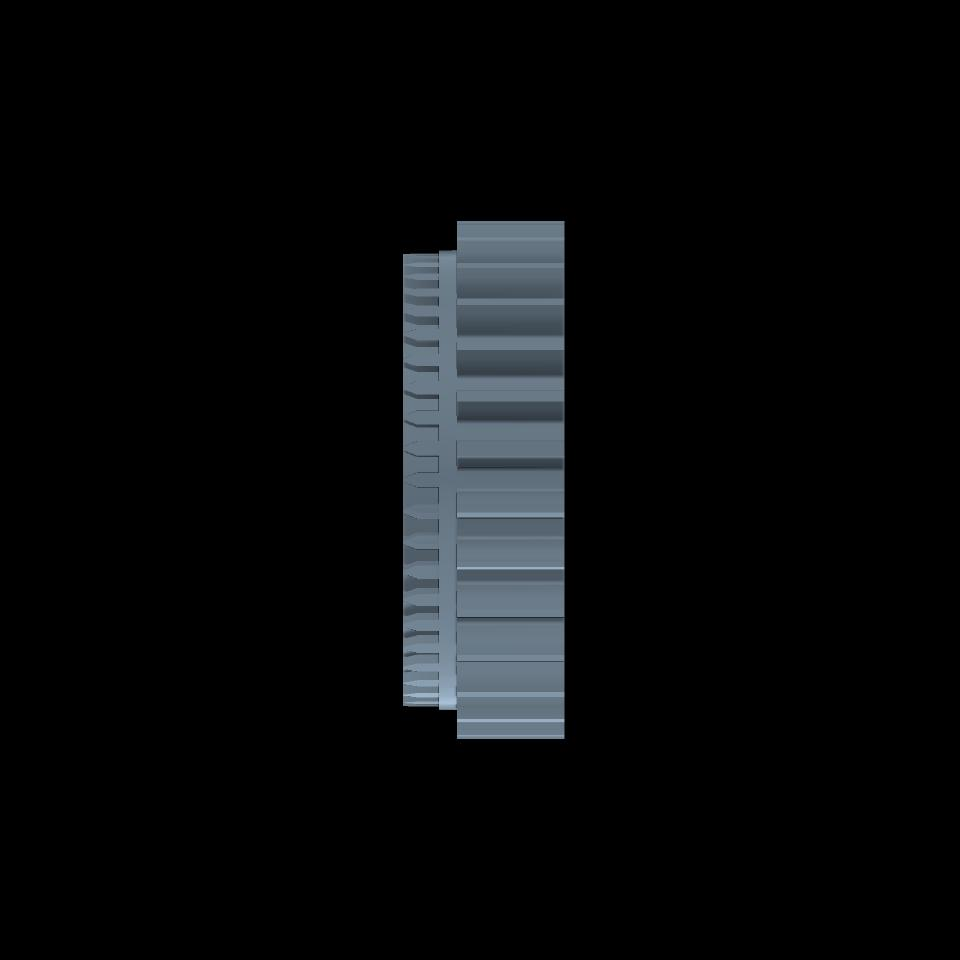Straight: (457, 220, 564, 737), (416, 255, 439, 706)
